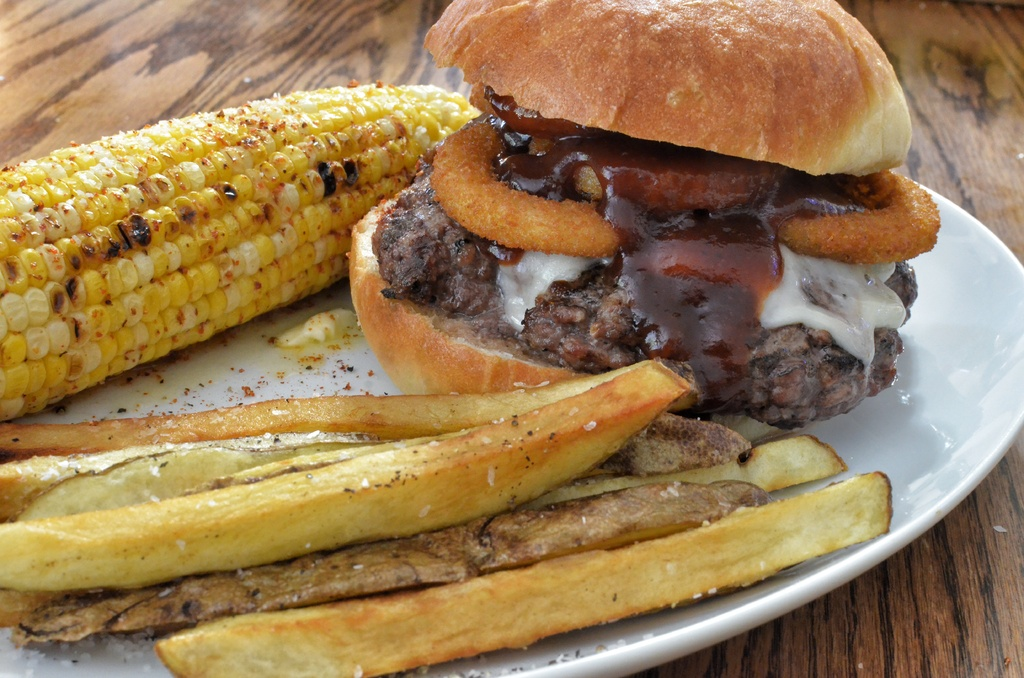French fries: (279, 339, 870, 599)
